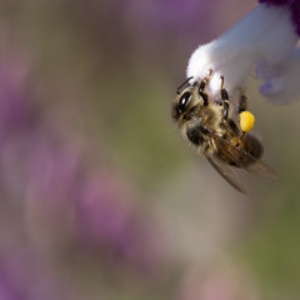bee: (172, 71, 284, 198)
